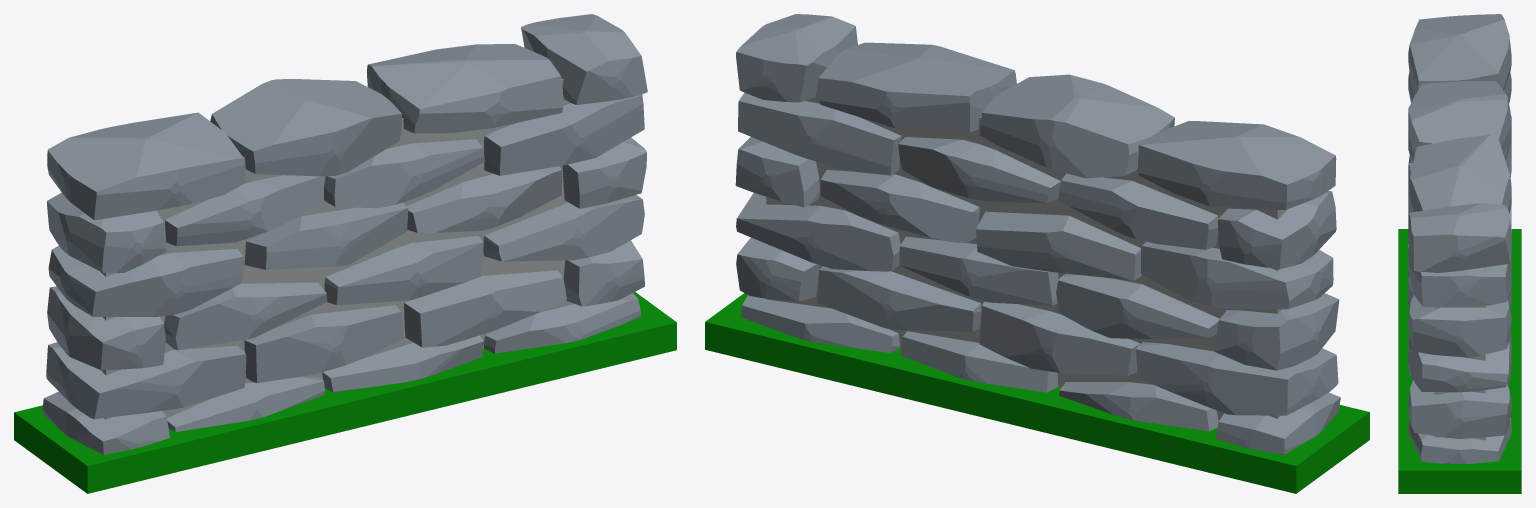
The model's file is openscad_customizable-stone-wall.glb.
3 renders of one model, left to right at view 1: azimuth 30°, elevation 25°; view 2: azimuth 150°, elevation 25°; view 3: azimuth 270°, elevation 25°, orthographic. The views are drawn at different scales.
Parts seen in each view (by area): view 1: object; view 2: object; view 3: object.
Part boxes in pixels (x1=…): object: x1=14, y1=14, x2=676, y2=493; object: x1=705, y1=14, x2=1369, y2=493; object: x1=1398, y1=14, x2=1521, y2=493.
Bounding box in the file's own units: 11.1 × 5.49 × 2.4.
